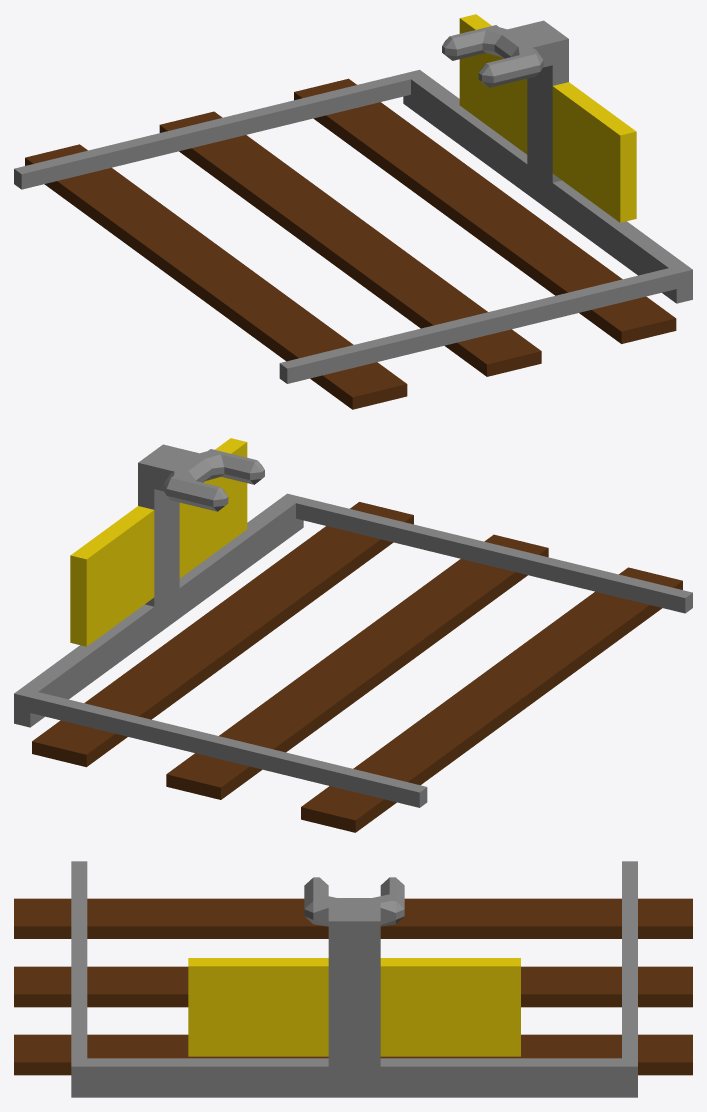
Rendered from End track.fbx.
3 views of the same model, one above another, from view 1: azimuth 30°, elevation 25°; view 2: azimuth 150°, elevation 25°; view 3: azimuth 270°, elevation 25° (orthographic). The views are drawn at different scales.
Visible parts, largest first — view 1: EndBoard; view 2: EndBoard; view 3: EndBoard.
Boxes of the visible parts, bbox=[...] form: EndBoard: bbox=[14, 14, 692, 409]; EndBoard: bbox=[14, 438, 692, 832]; EndBoard: bbox=[14, 861, 692, 1097].
Bounding box in the file's own units: 5.43 × 2.17 × 7.59.
